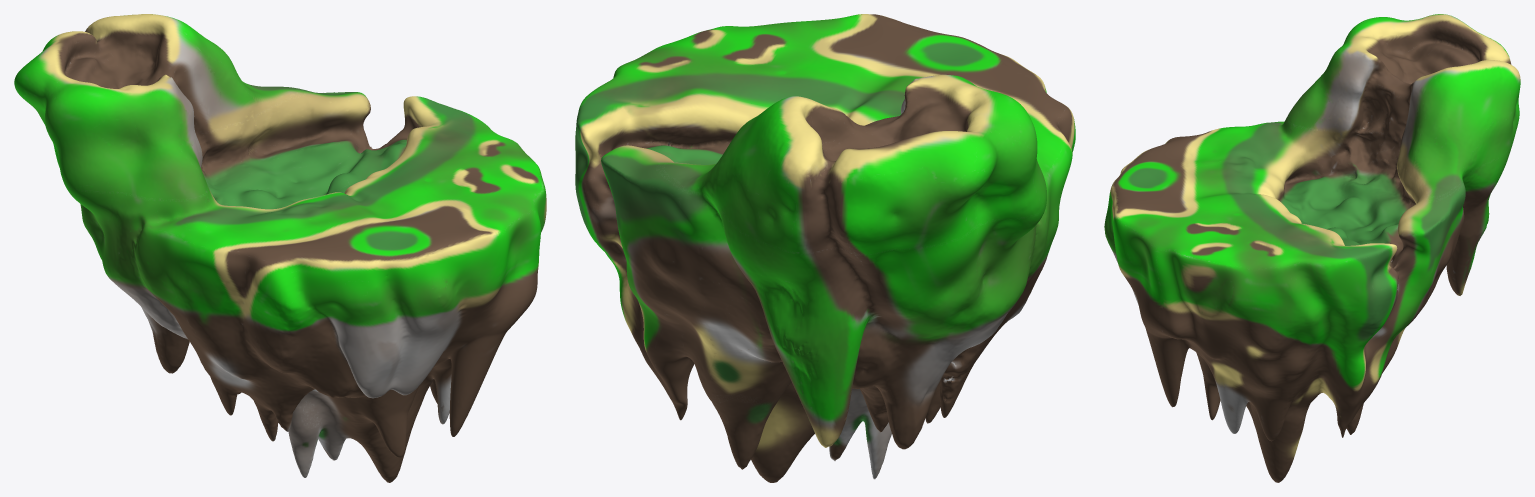
Rendered from IslaCascada.fbx.
3 views of the same model, side by side, from view 1: azimuth 30°, elevation 25°; view 2: azimuth 150°, elevation 25°; view 3: azimuth 270°, elevation 25° (orthographic). The views are drawn at different scales.
Visible parts, largest first — view 1: IslaCascada; view 2: IslaCascada; view 3: IslaCascada.
Part boxes in pixels (box(x1,y1,x2,y2)): IslaCascada: box(14, 14, 546, 482); IslaCascada: box(575, 14, 1075, 482); IslaCascada: box(1104, 14, 1520, 482).
Size of the model in its own units: 48.03 by 46.24 by 47.52.
1 material, 1 textured.
